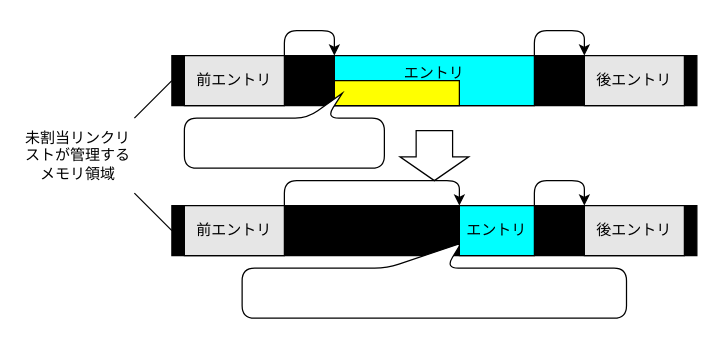
Some shapes in this 719 by 341 pixel diagram are drawn without their labels. The centre of each missing label's shape, as x and y in pixels:
"エントリから指定メモリ領域を引いて、指定メモリ領域を割当済リンクリストに追加（メモリ領域追加）" goes at pixel 433 280.
"エントリのメモリ領域内の先頭に指定メモリ領域がある" goes at pixel 283 130.
"指定メモリ領域" goes at pixel 396 92.
